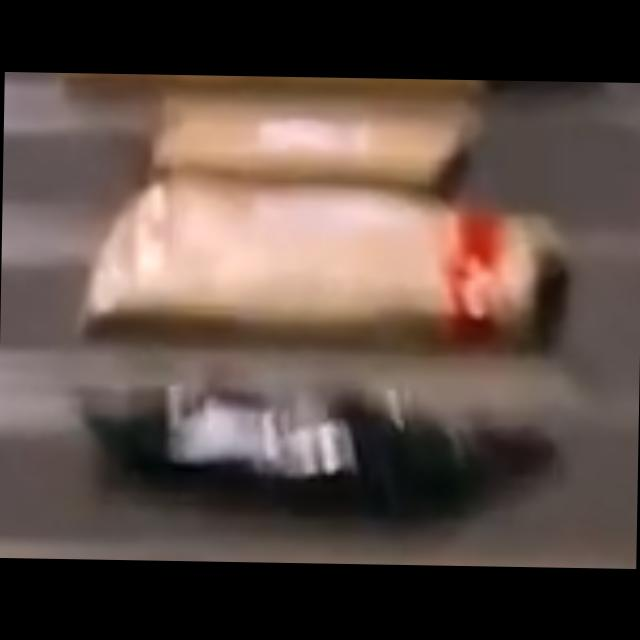mailer: (86, 182, 568, 348), (96, 384, 569, 526), (146, 94, 472, 192)
